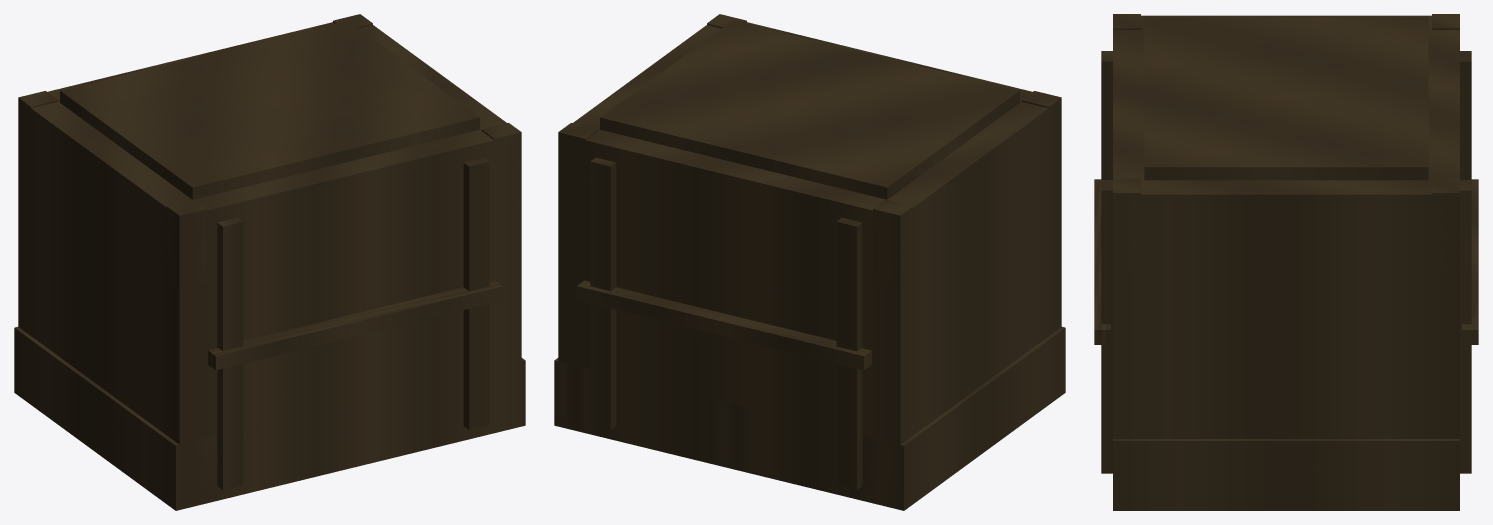
Rendered from prop_cardboard_pallet_a.glb.
3 views of the same model, side by side, from view 1: azimuth 30°, elevation 25°; view 2: azimuth 150°, elevation 25°; view 3: azimuth 270°, elevation 25° (orthographic). The views are drawn at different scales.
Parts seen in each view (by area): view 1: prop_cardboard_pallet_a; view 2: prop_cardboard_pallet_a; view 3: prop_cardboard_pallet_a.
Boxes of the visible parts, left/top/right/bottom form: prop_cardboard_pallet_a: left=14, top=14, right=525, bottom=510; prop_cardboard_pallet_a: left=554, top=14, right=1065, bottom=510; prop_cardboard_pallet_a: left=1094, top=14, right=1478, bottom=510.
Bounding box in the file's own units: 0.9 × 0.75 × 0.7982.
1 material, 1 textured.
